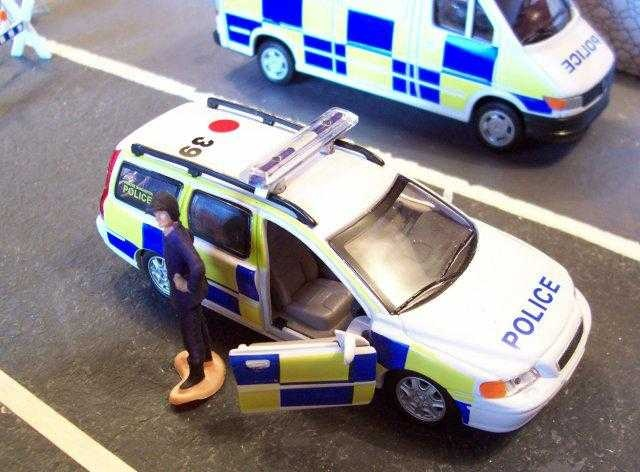Police Van: (94, 102, 591, 441), (201, 0, 606, 137)
